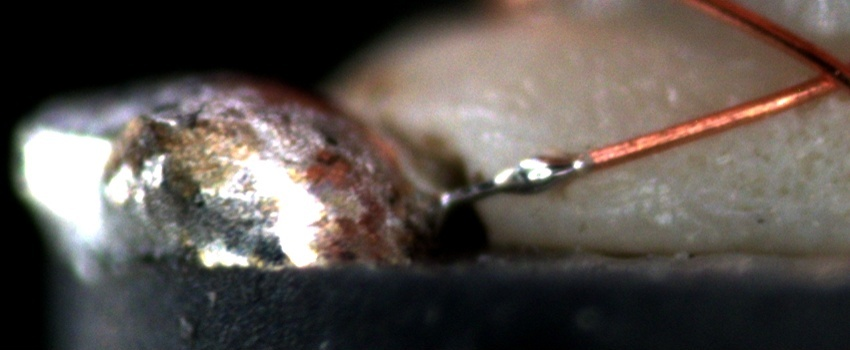CL: (794, 45, 850, 100)
TB: (491, 152, 578, 199)
TS: (439, 155, 592, 205)
TTCW: (434, 133, 655, 210)
